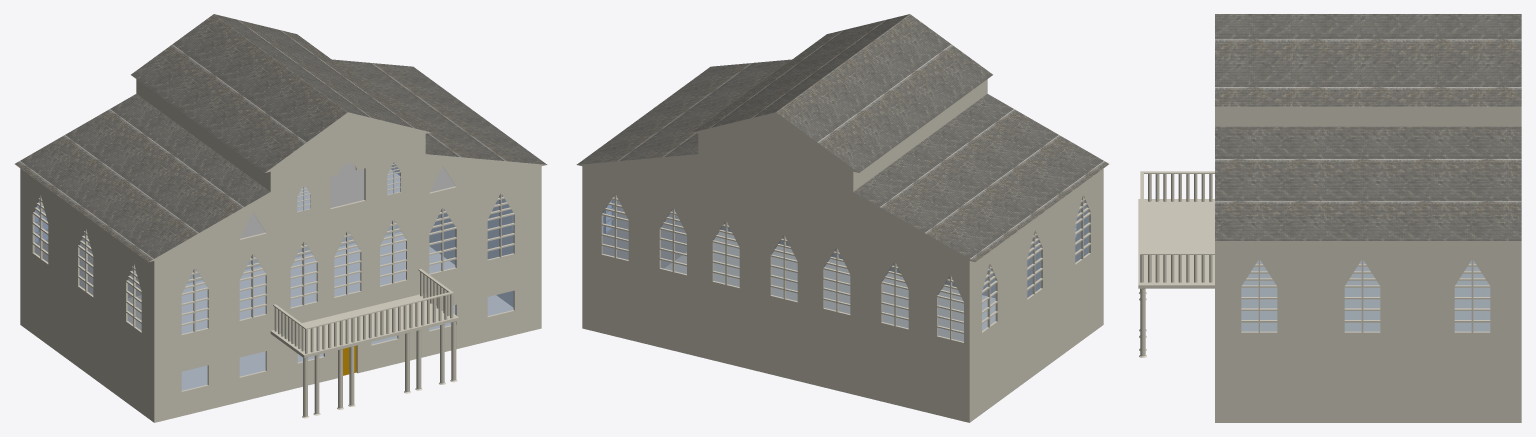
File: pipenberg.glb
3 views of the same model, side by side, from view 1: azimuth 30°, elevation 25°; view 2: azimuth 150°, elevation 25°; view 3: azimuth 270°, elevation 25° (orthographic). The views are drawn at different scales.
Parts seen in each view (by area): view 1: Geom3D (×4); view 2: Geom3D (×3); view 3: Geom3D (×3).
Boxes of the visible parts, bbox=[...] form: Geom3D (×4): bbox=[15, 14, 547, 422]; Geom3D (×3): bbox=[576, 14, 1108, 422]; Geom3D (×3): bbox=[1138, 14, 1521, 422].
Size of the model in its own units: 20.6 by 13 by 15.
5 materials, 1 textured.
